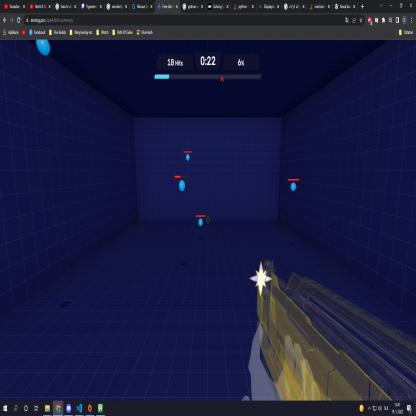sphere: (36, 39, 52, 58), (179, 179, 185, 192), (197, 218, 204, 228), (290, 181, 296, 191), (184, 153, 190, 162)
